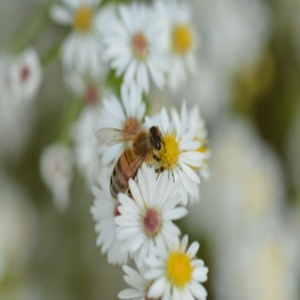bee: (112, 121, 166, 201)
